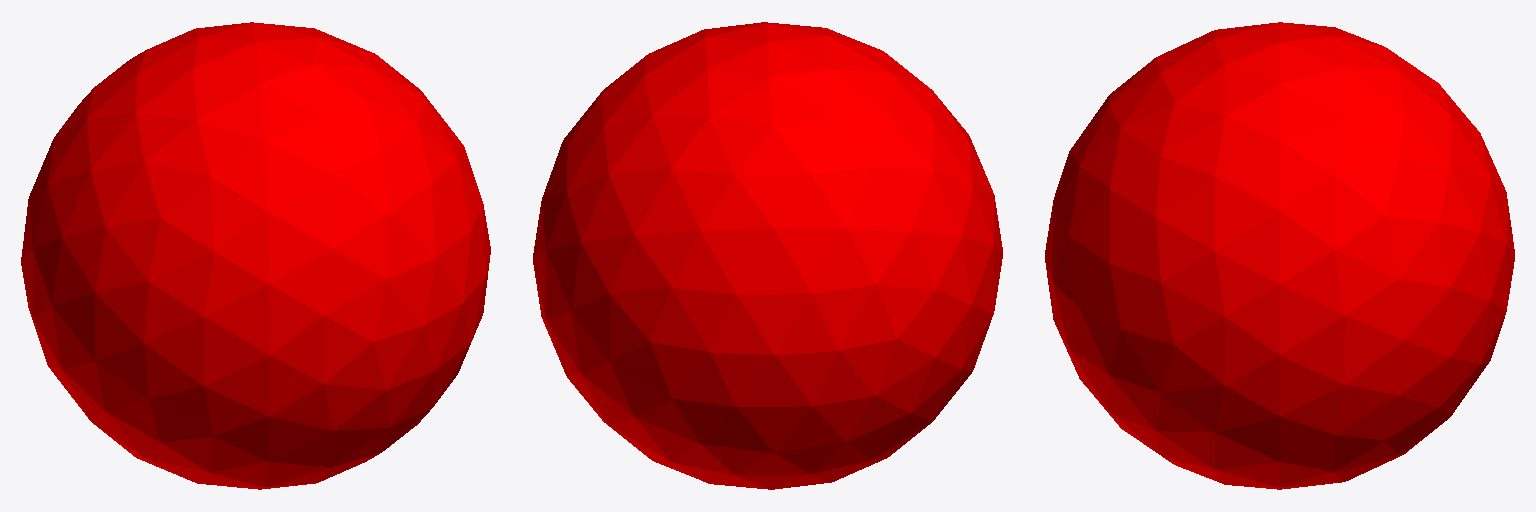
The model's file is high-res-sphere.obj.
3 views of the same model, side by side, from view 1: azimuth 30°, elevation 25°; view 2: azimuth 150°, elevation 25°; view 3: azimuth 270°, elevation 25° (orthographic).
Parts seen in each view (by area): view 1: sphere; view 2: sphere; view 3: sphere.
Boxes of the visible parts, x1=… form: sphere: x1=21, y1=22, x2=490, y2=489; sphere: x1=533, y1=22, x2=1002, y2=489; sphere: x1=1045, y1=22, x2=1514, y2=489.
Bounding box in the file's own units: 5.09 × 5.09 × 5.09.